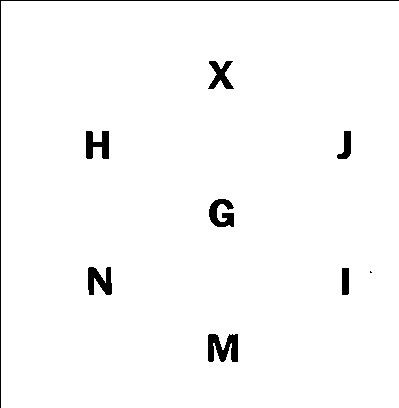I: (334, 262, 358, 304)
